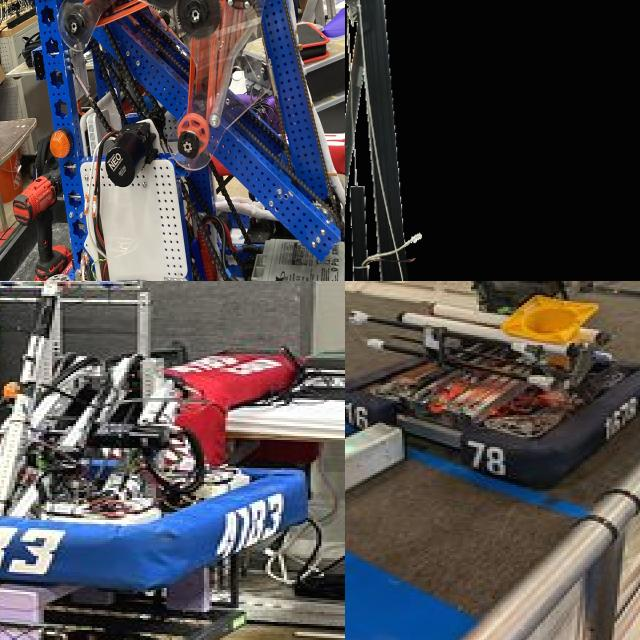FRC-Robots: (0, 281, 297, 602), (345, 281, 640, 477), (345, 0, 455, 281)
